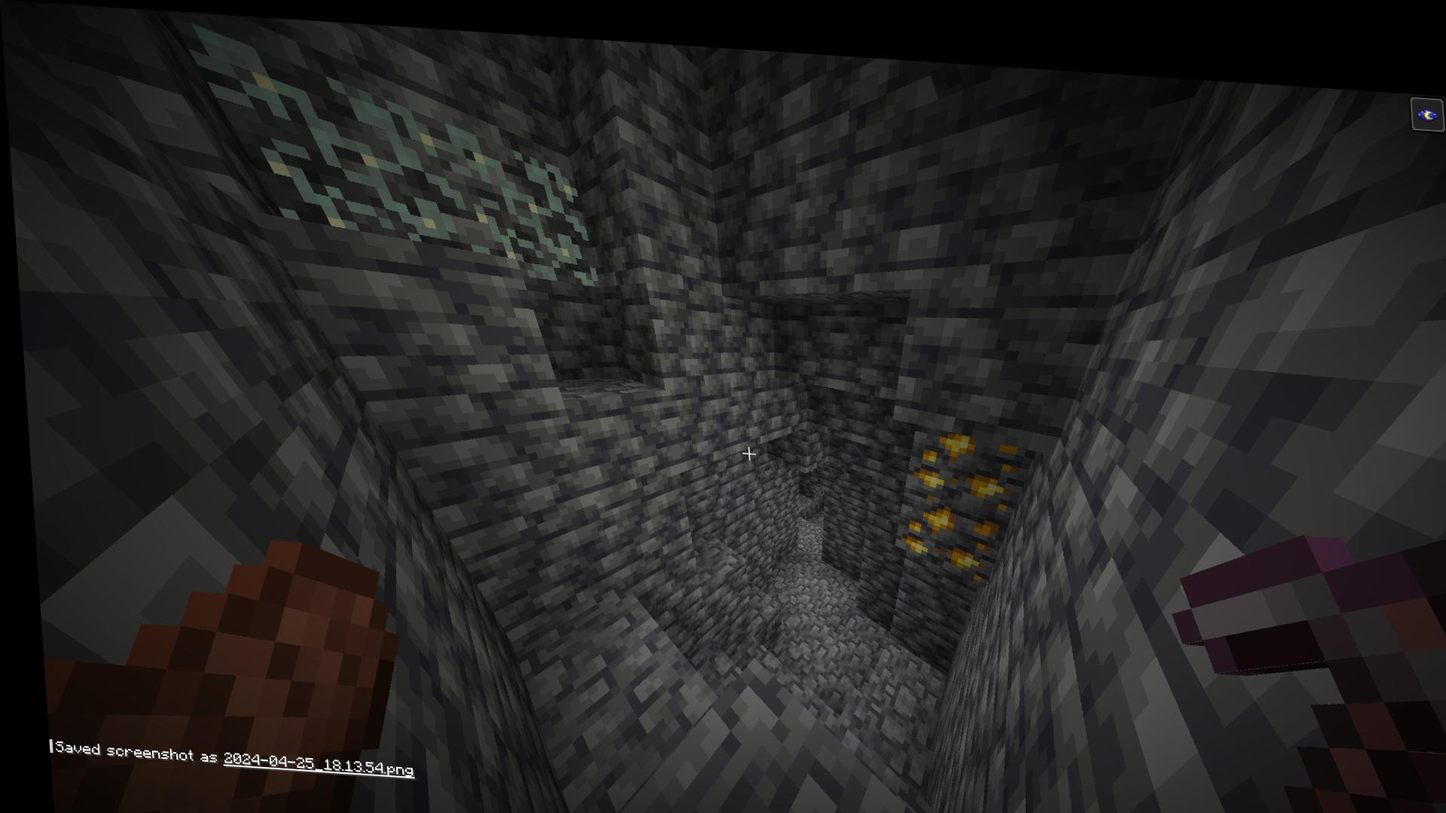gold ore: (906, 407, 1019, 492), (890, 484, 993, 571)
